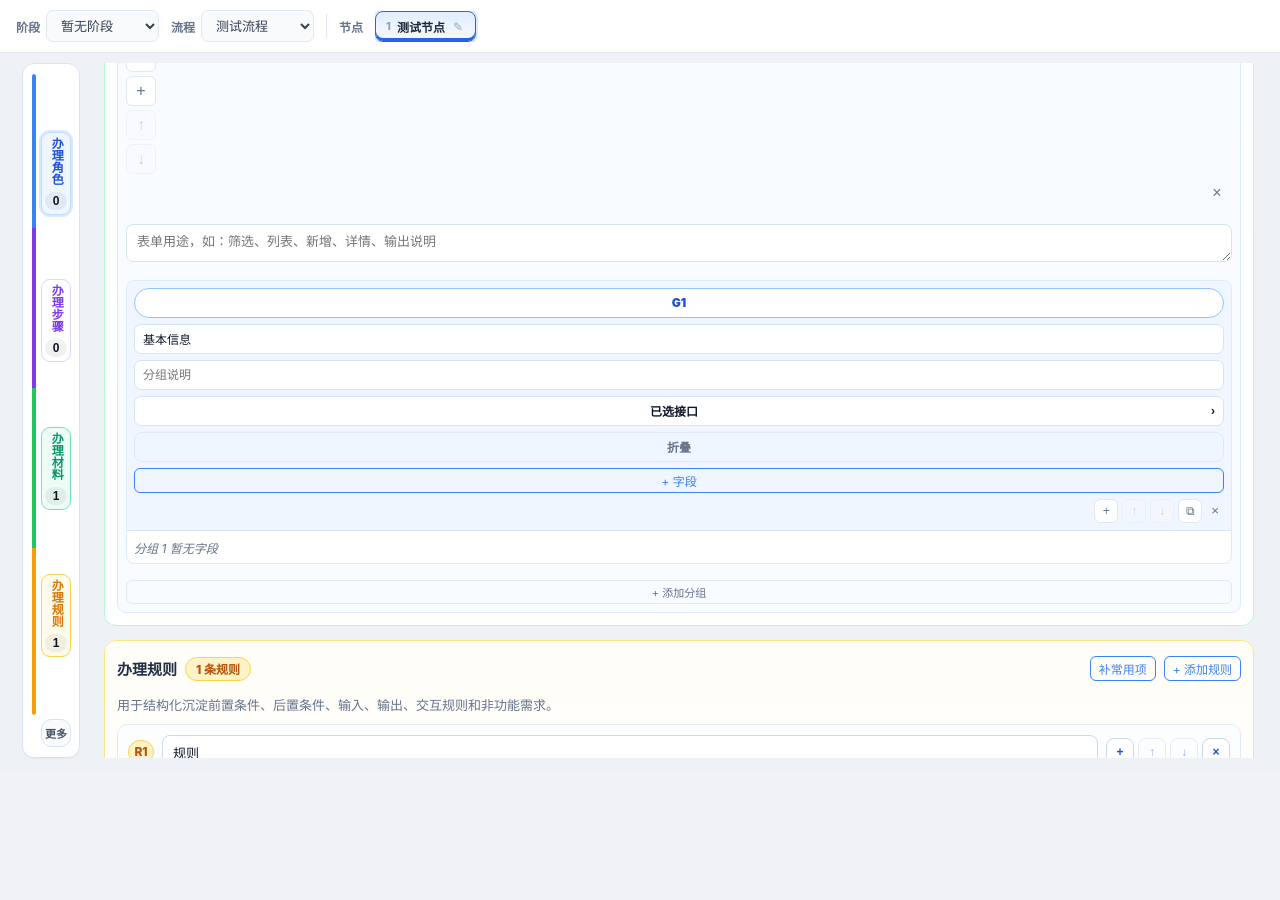
Test: ProcessEditorWorkbenchComponent › filters service groups when viewing only selected form-section interfaces
(page scrolled)
Click the button with class "task-form-service-select": {"x": 679, "y": 411} [134,396,1224,426]
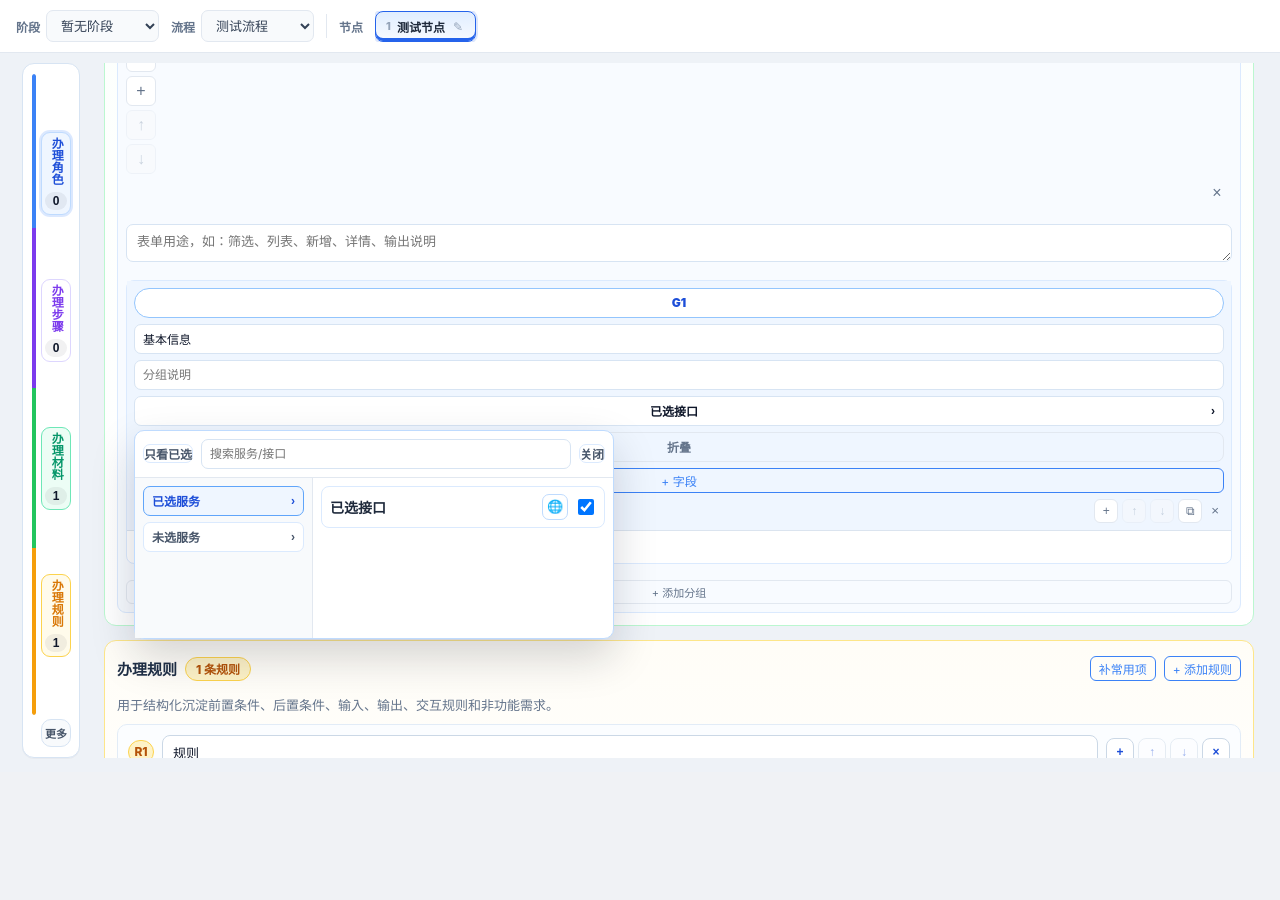
Click the button with test id "task-form-section-service-selected-only": {"x": 168, "y": 454} [143,444,193,463]
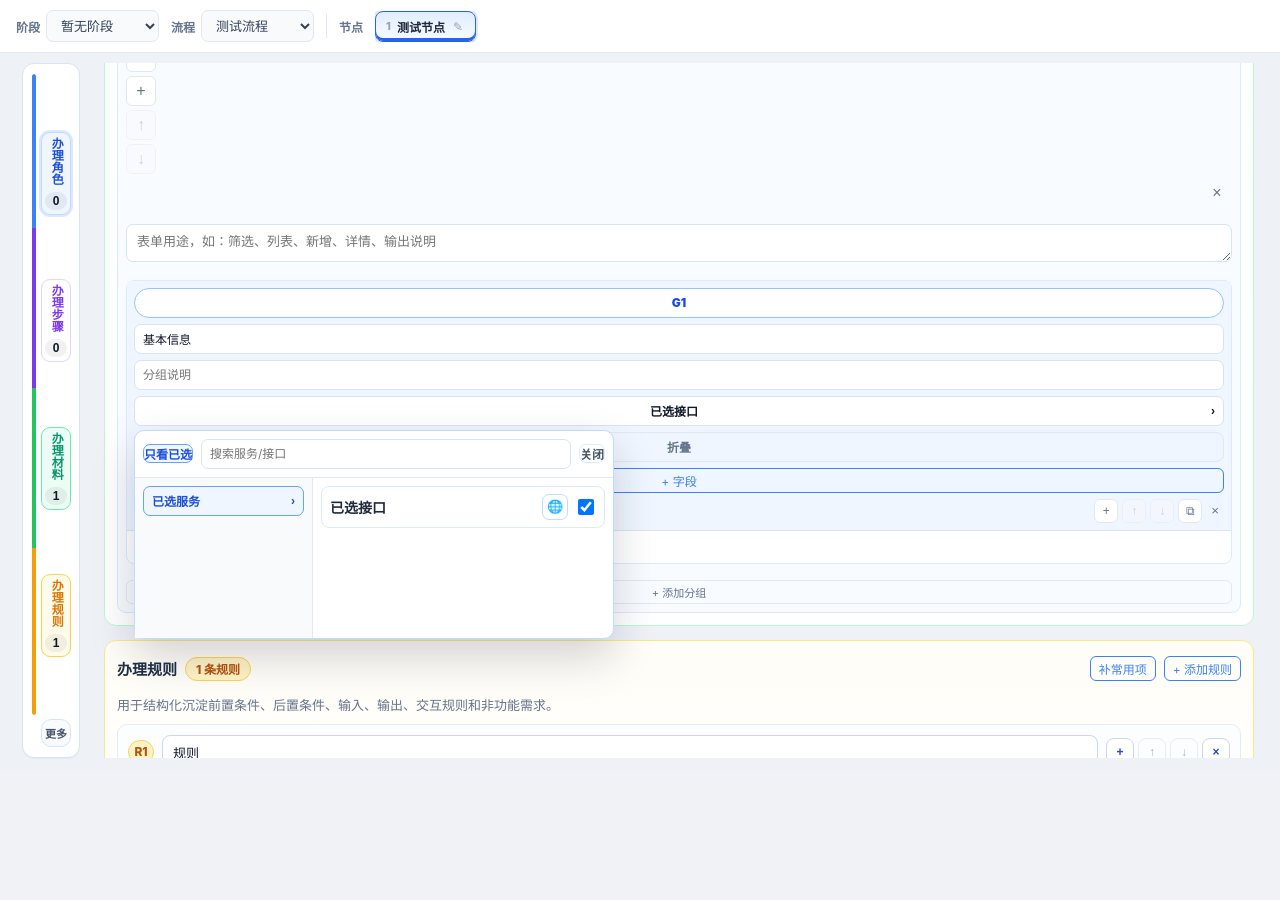
Check: the button "已选服务 ›" is shown, box [143,486,304,516]
Check: the button "未选服务" no longer shows "未选服务"
